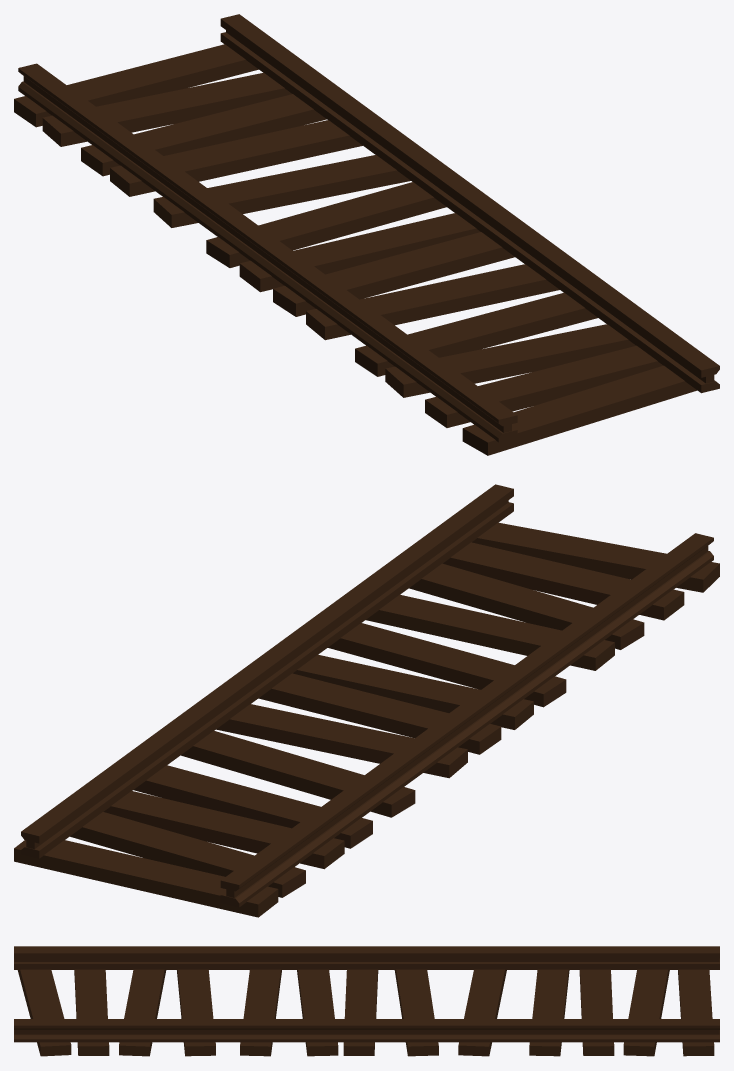
Rendered from Rails.fbx.
3 views of the same model, one above another, from view 1: azimuth 30°, elevation 25°; view 2: azimuth 150°, elevation 25°; view 3: azimuth 270°, elevation 25° (orthographic). The views are drawn at different scales.
Parts seen in each view (by area): view 1: RAILS.001; view 2: RAILS.001; view 3: RAILS.001.
Boxes of the visible parts, x1,y1,x2,y2 form: RAILS.001: [14, 14, 719, 455]; RAILS.001: [14, 484, 719, 917]; RAILS.001: [14, 946, 719, 1056].
Bounding box in the file's own units: 202 × 27.96 × 683.
